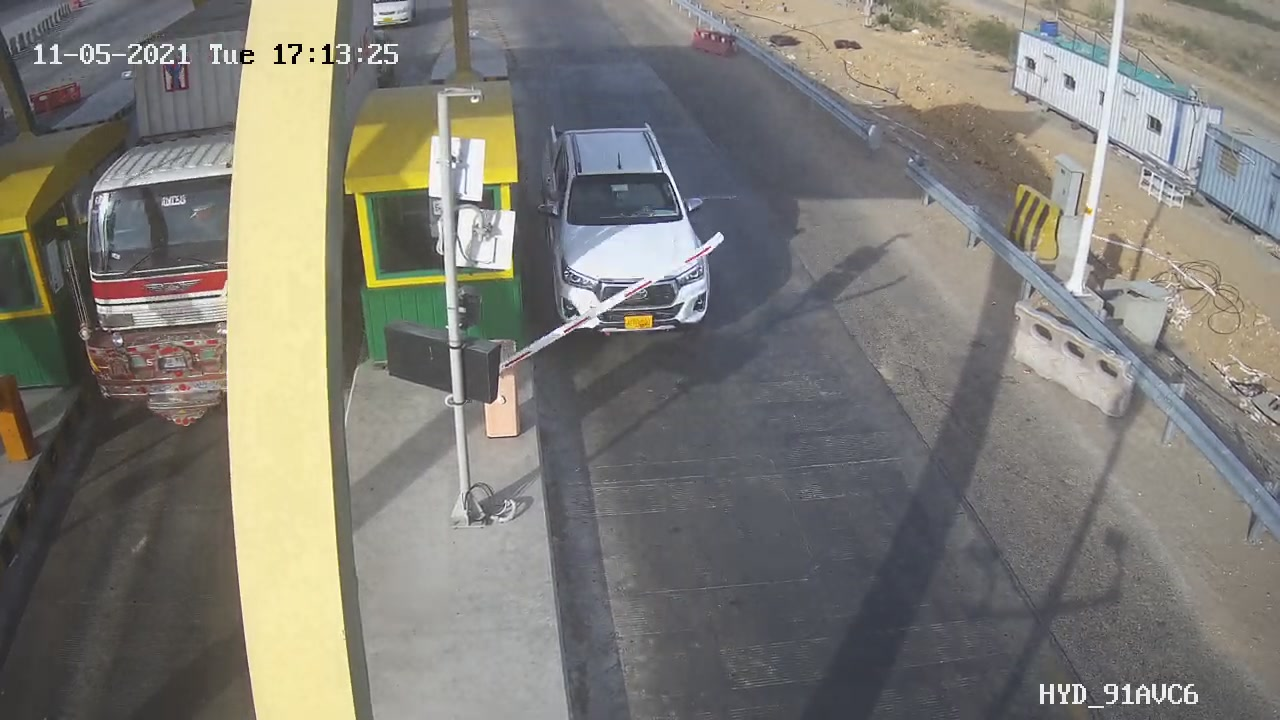F1: (522, 108, 734, 353)
